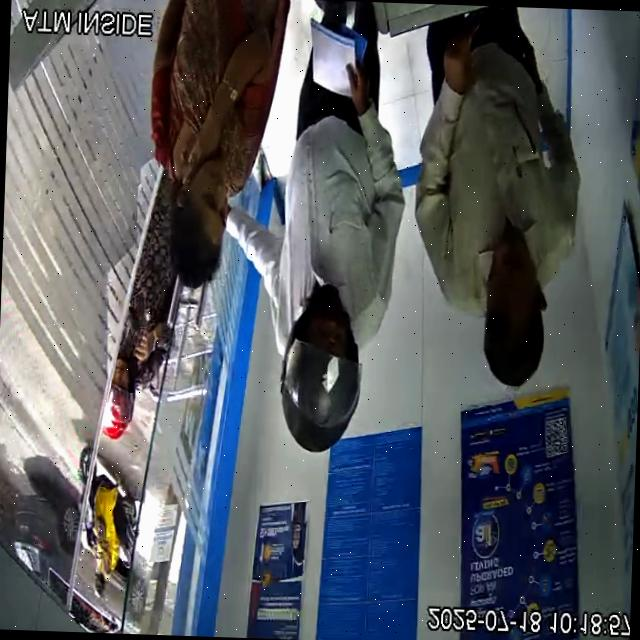helmet: (280, 284, 360, 453), (101, 358, 134, 440)
no_helmet: (483, 227, 547, 387), (169, 155, 227, 289)
